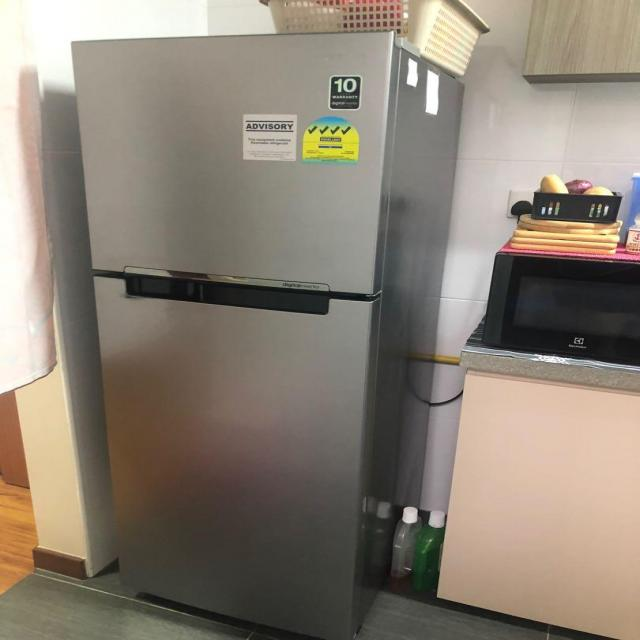refrigerator: (69, 29, 396, 640)
